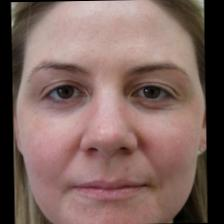Dry: (21, 2, 200, 224)
